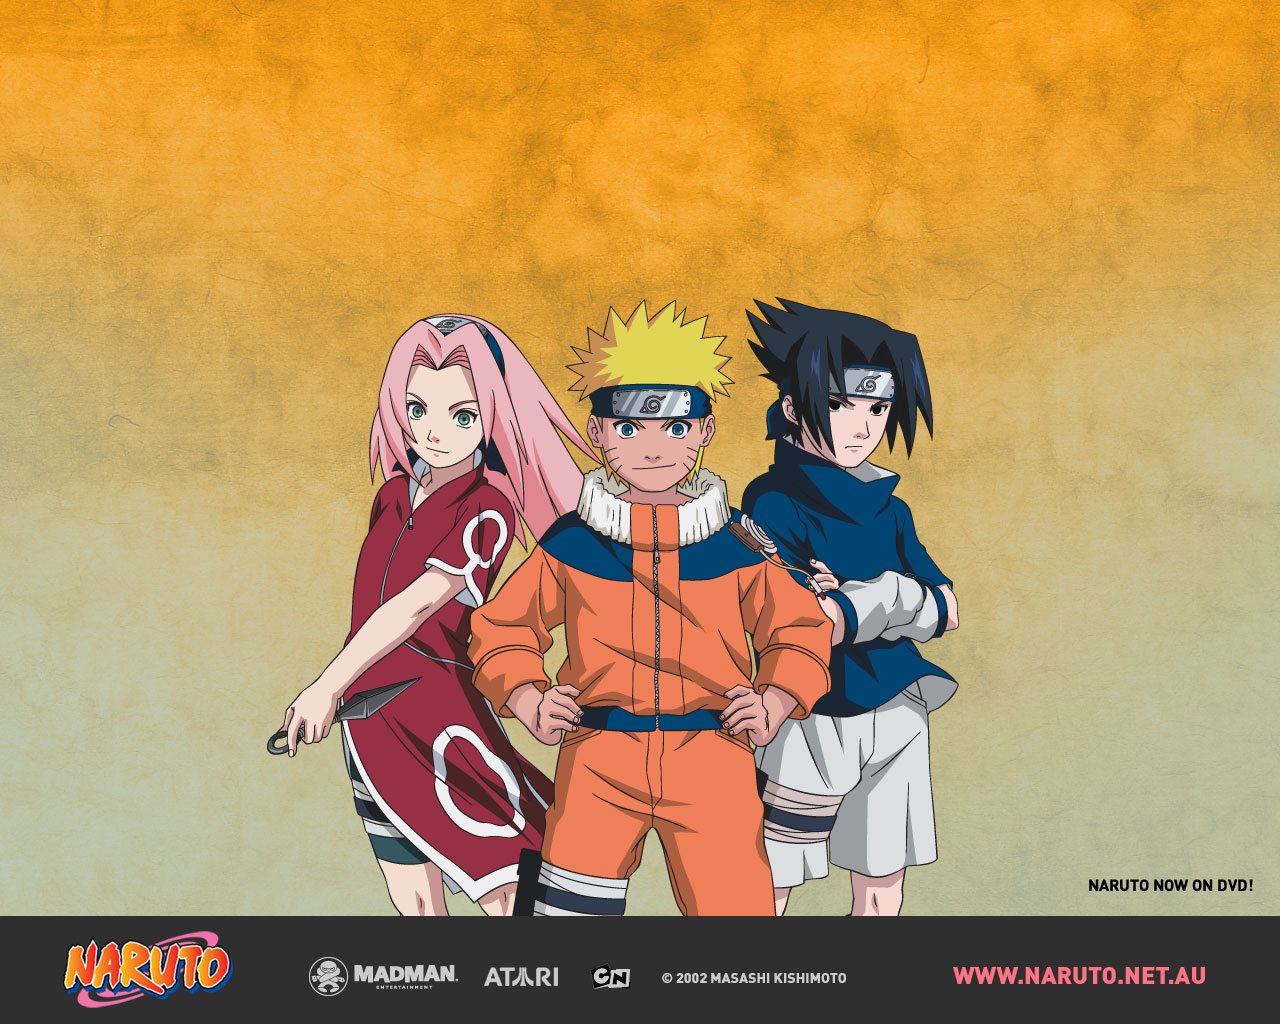naruto: (583, 372, 723, 497)
sakura: (381, 307, 504, 475)
sasuke: (778, 356, 908, 476)
